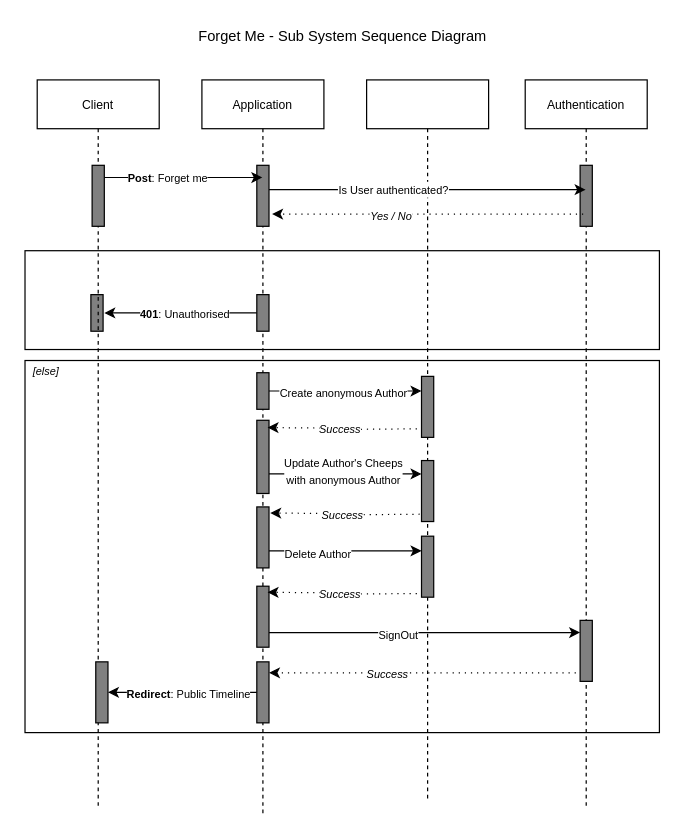
This 681x836 diagram has some shape labels left out. The shapes that lost their labels are listed below. From the top down, each one's centre as x and y in pixels, then its label:
At point (341, 299): "[if Authenticated = No]".
At point (427, 438): "Database".
